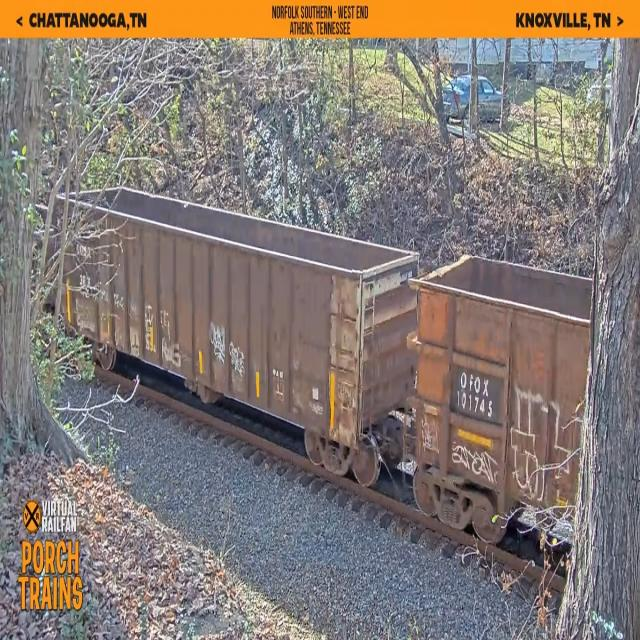gondola: (56, 165, 420, 494), (407, 238, 584, 566)
